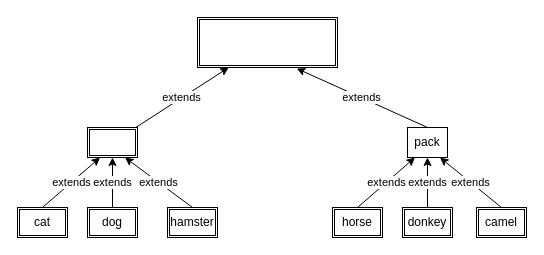
Image size: 544x255. Some labels were removed from this diagram. Here are the shapes that lost their labels. From the top down, the centre of each, then its label:
the point at 267,42: abstarct class Animals
the point at 112,142: pets
